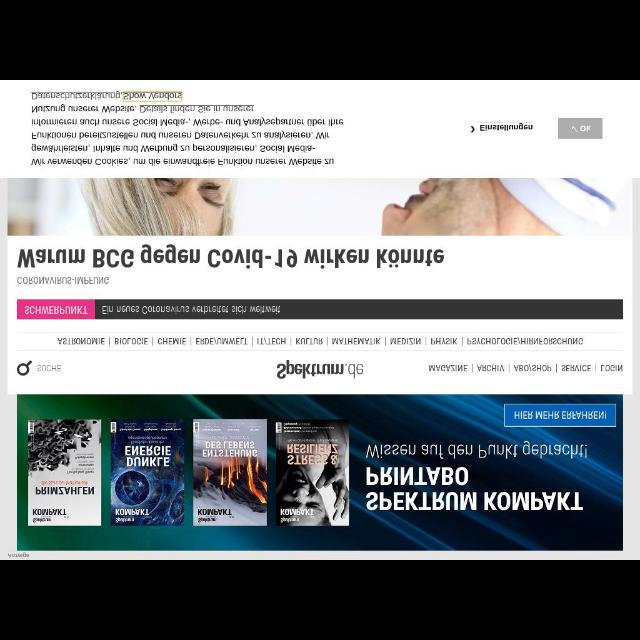button: (558, 118, 602, 138)
icon: (18, 360, 32, 376), (571, 124, 579, 132), (470, 125, 476, 133)
iframe: (1, 394, 640, 560)
image: (8, 179, 632, 235), (276, 358, 364, 379)
input: (16, 358, 168, 378)
multitab: (18, 332, 622, 350), (424, 358, 632, 379)
text: (30, 90, 344, 166), (16, 244, 444, 270), (102, 305, 282, 315), (17, 275, 112, 285), (466, 338, 584, 344), (24, 305, 88, 315), (57, 336, 106, 346), (479, 122, 533, 130), (196, 337, 248, 345), (429, 363, 469, 372), (514, 364, 552, 372), (332, 338, 382, 344), (158, 336, 186, 346), (295, 336, 323, 346), (114, 337, 148, 345), (560, 364, 592, 372), (257, 336, 287, 344), (477, 364, 505, 372), (36, 364, 62, 372), (432, 337, 458, 345), (600, 363, 624, 371), (391, 338, 422, 344), (580, 125, 592, 132)
